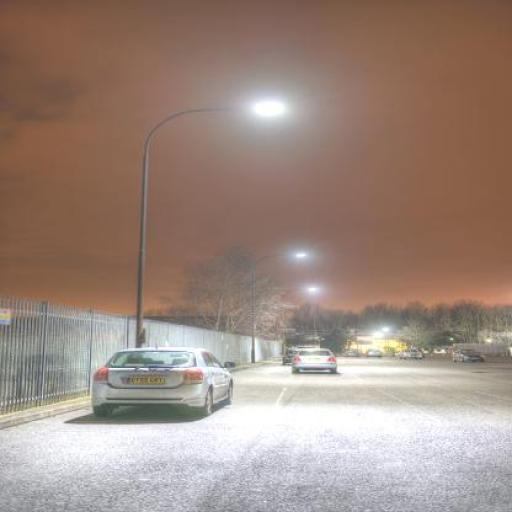street light: (134, 104, 281, 364), (250, 252, 306, 364), (278, 289, 316, 361), (384, 328, 401, 356)
